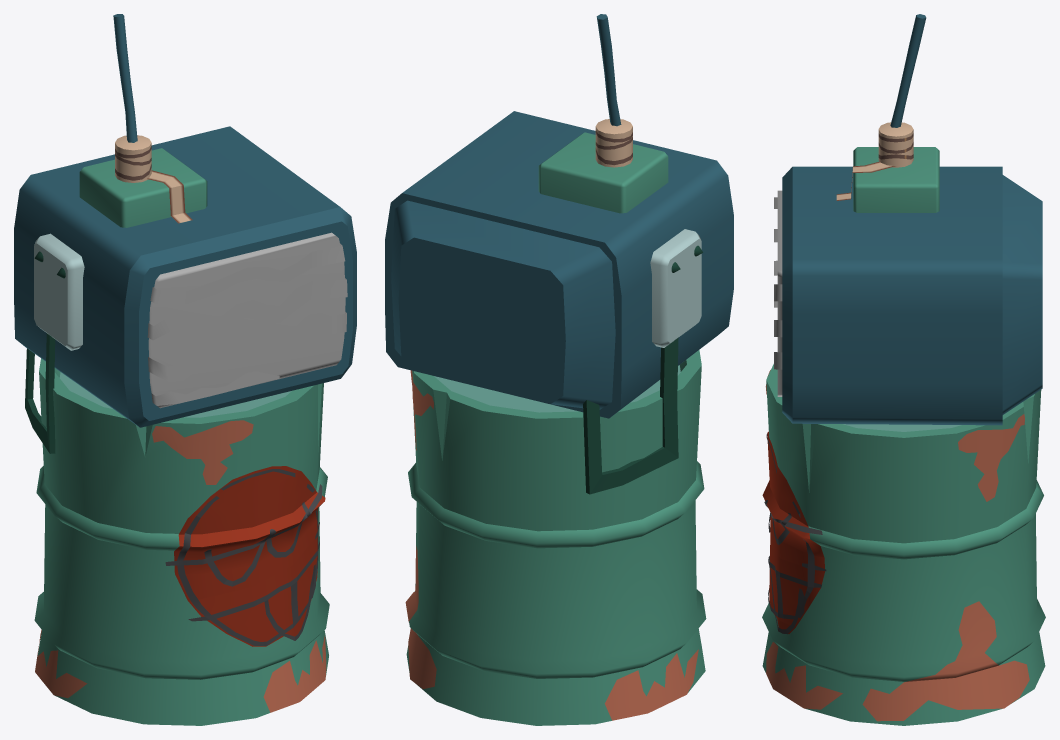
The model's file is BR_ToxicBarrel_04.fbx.
3 views of the same model, side by side, from view 1: azimuth 30°, elevation 25°; view 2: azimuth 150°, elevation 25°; view 3: azimuth 270°, elevation 25° (orthographic). The views are drawn at different scales.
Visible parts, largest first — view 1: BR_ToxicBarrel_04; view 2: BR_ToxicBarrel_04; view 3: BR_ToxicBarrel_04.
Part boxes in pixels (x1,y1,x2,y2): BR_ToxicBarrel_04: (14, 14, 356, 725); BR_ToxicBarrel_04: (385, 14, 733, 725); BR_ToxicBarrel_04: (762, 14, 1045, 725).
Bounding box in the file's own units: 94.31 × 224 × 92.09.
